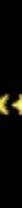star: (10, 93, 22, 115), (0, 93, 10, 115)
